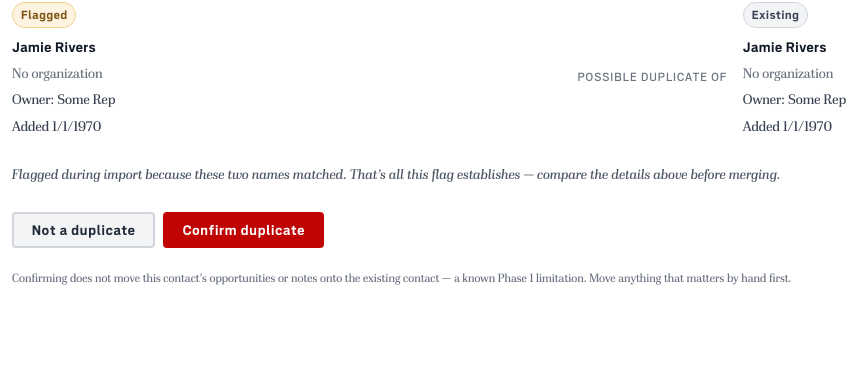
it: DuplicateRow › surfaces an error and re-enables the buttons if confirming a merge fails (Finding 4 regression)
Click the button "Confirm duplicate".
click(244, 230)  # box left=163, top=212, right=324, bottom=248
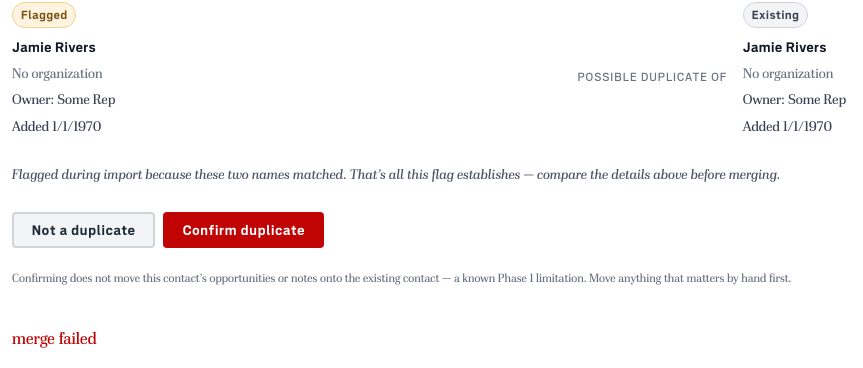
Expected: the button "Not a duplicate" is enabled, left=12, top=212, right=155, bottom=248
Expected: the text "merge failed" is shown, left=12, top=324, right=97, bottom=352
